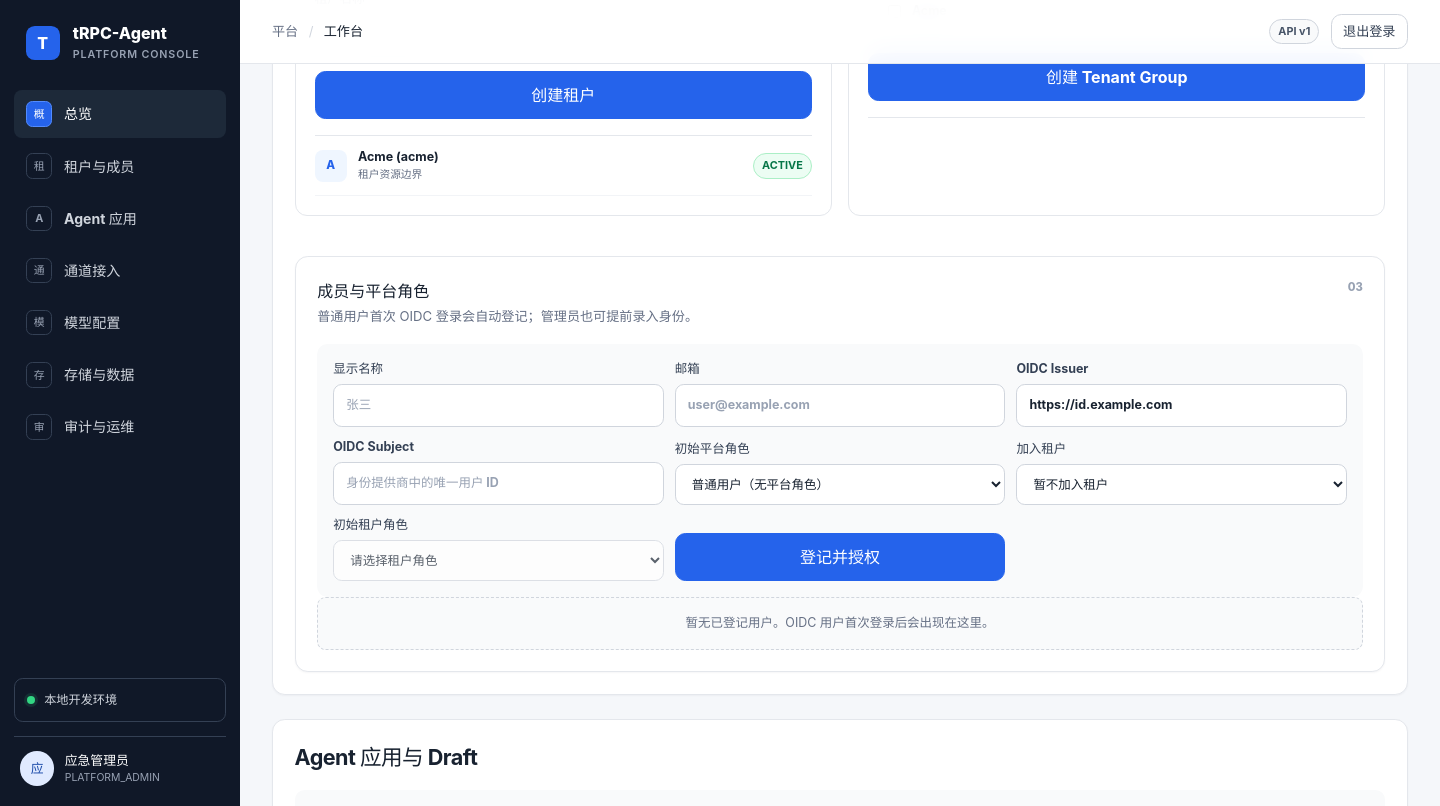
Test: 平台管理员可预登记普通 OIDC 用户
This screenshot has width=1440, height=806.
(page scrolled)
expect the button named "登记用户" is shown: met, box [675, 533, 1005, 581]
Type "Alice" into the field named "用户显示名称" at point(498, 406), box [333, 384, 664, 427]
Type "alice@example.com" into the field named "用户邮箱" at point(840, 406), box [675, 384, 1005, 427]
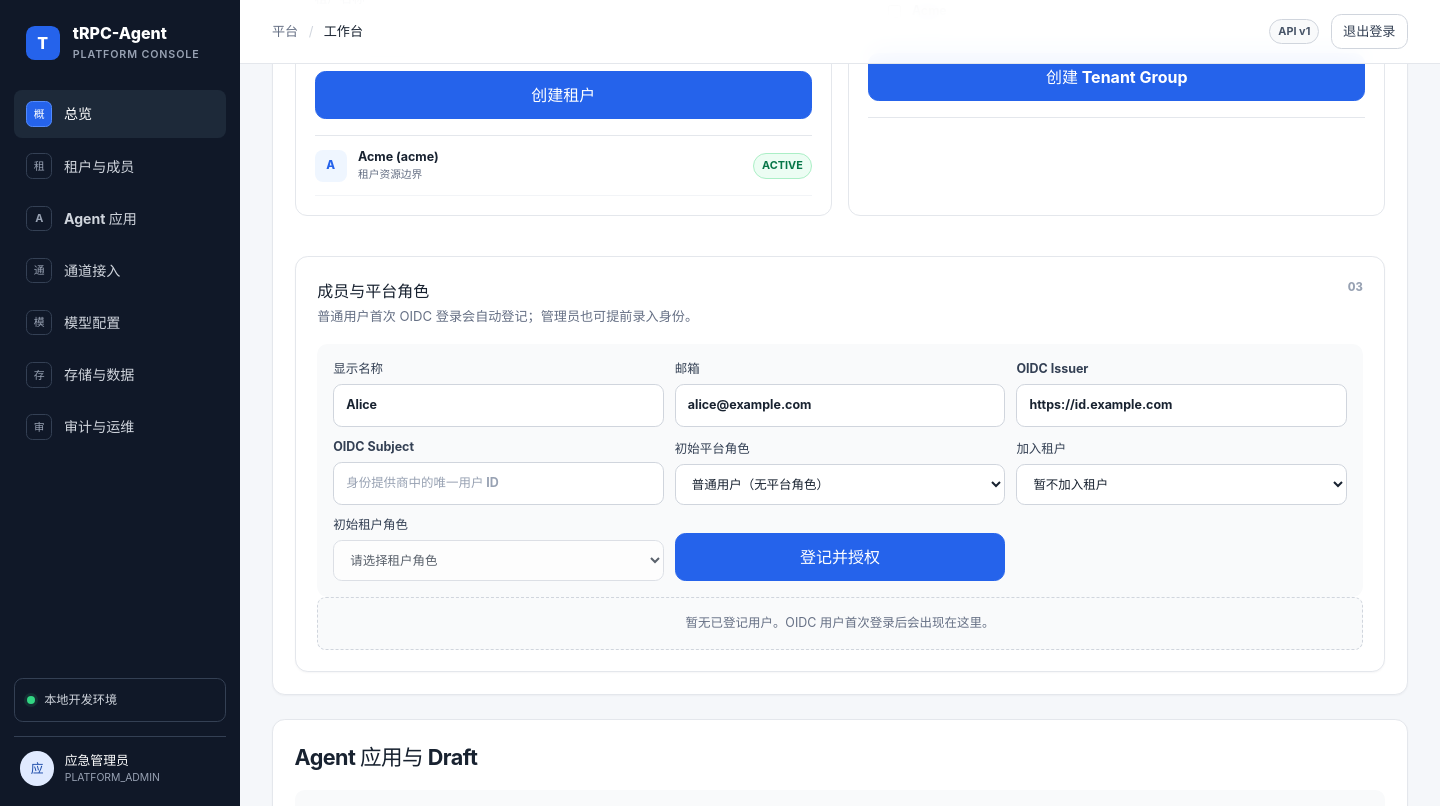
Replace the text in the field labelled "OIDC Issuer" with "https://identity.example.com" at point(1182, 406), box [1016, 384, 1347, 427]
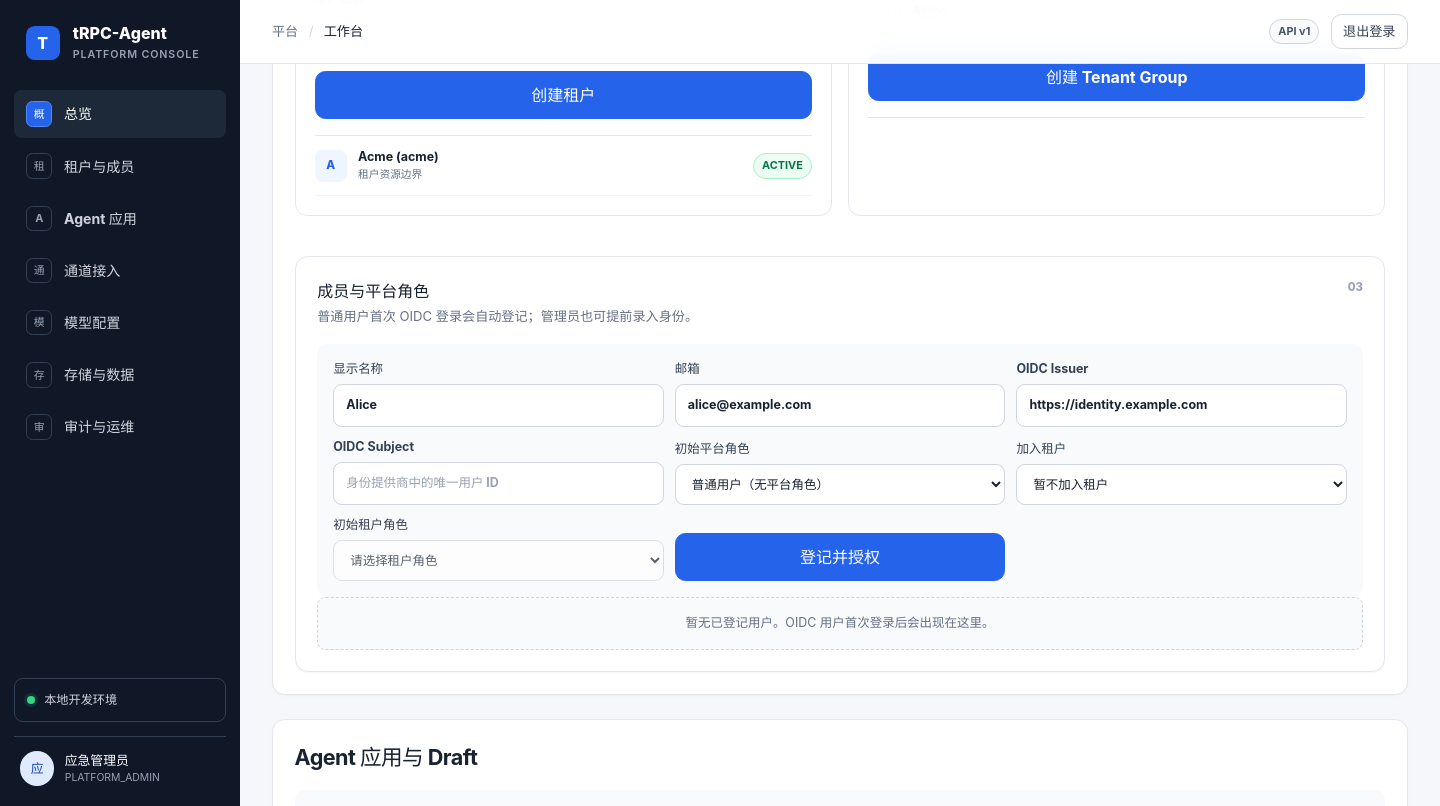
Type "alice-id" into the field labelled "OIDC Subject" at point(498, 484), box [333, 462, 664, 505]
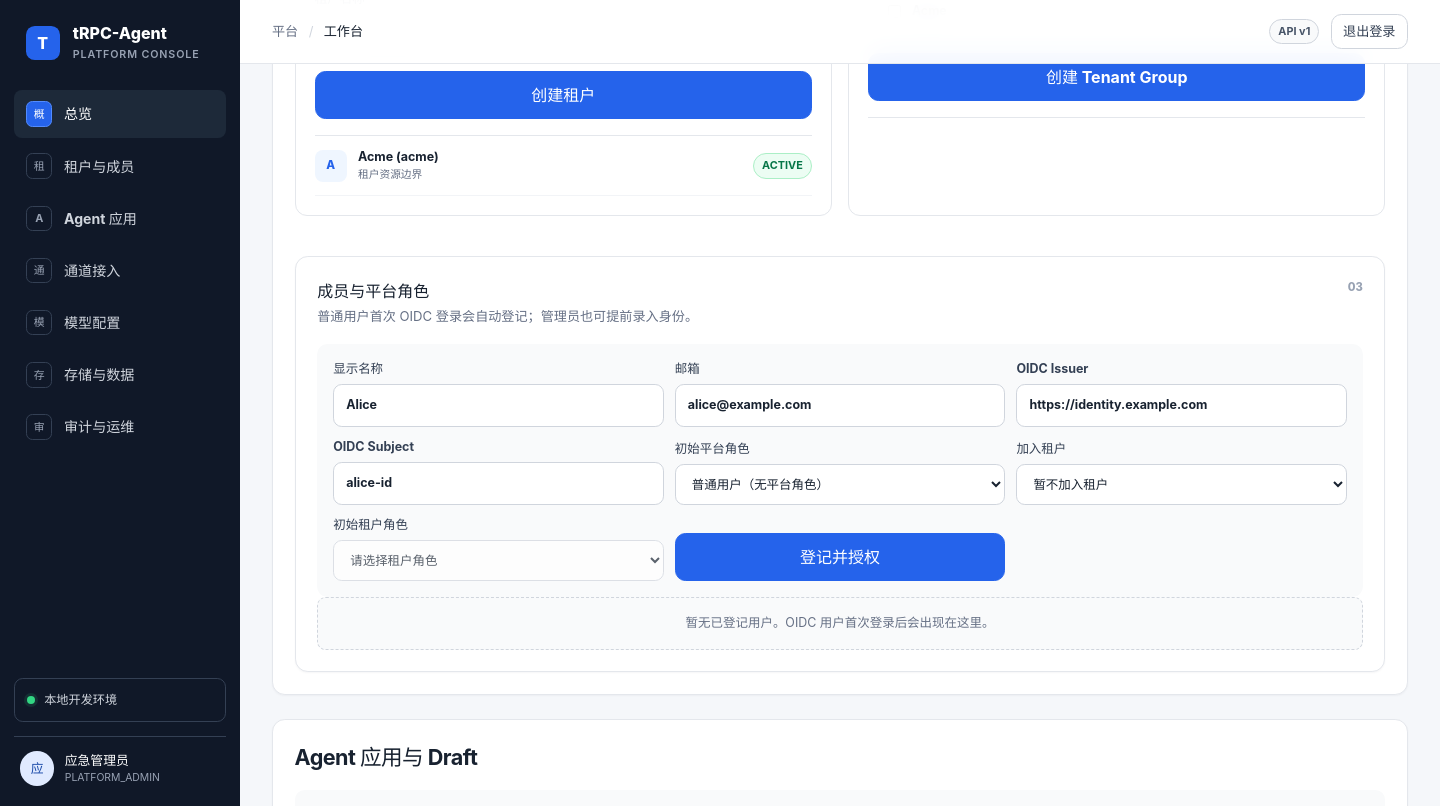
Select "Acme" in the dropdown labelled "加入租户" at point(1182, 484), box [1016, 464, 1347, 505]
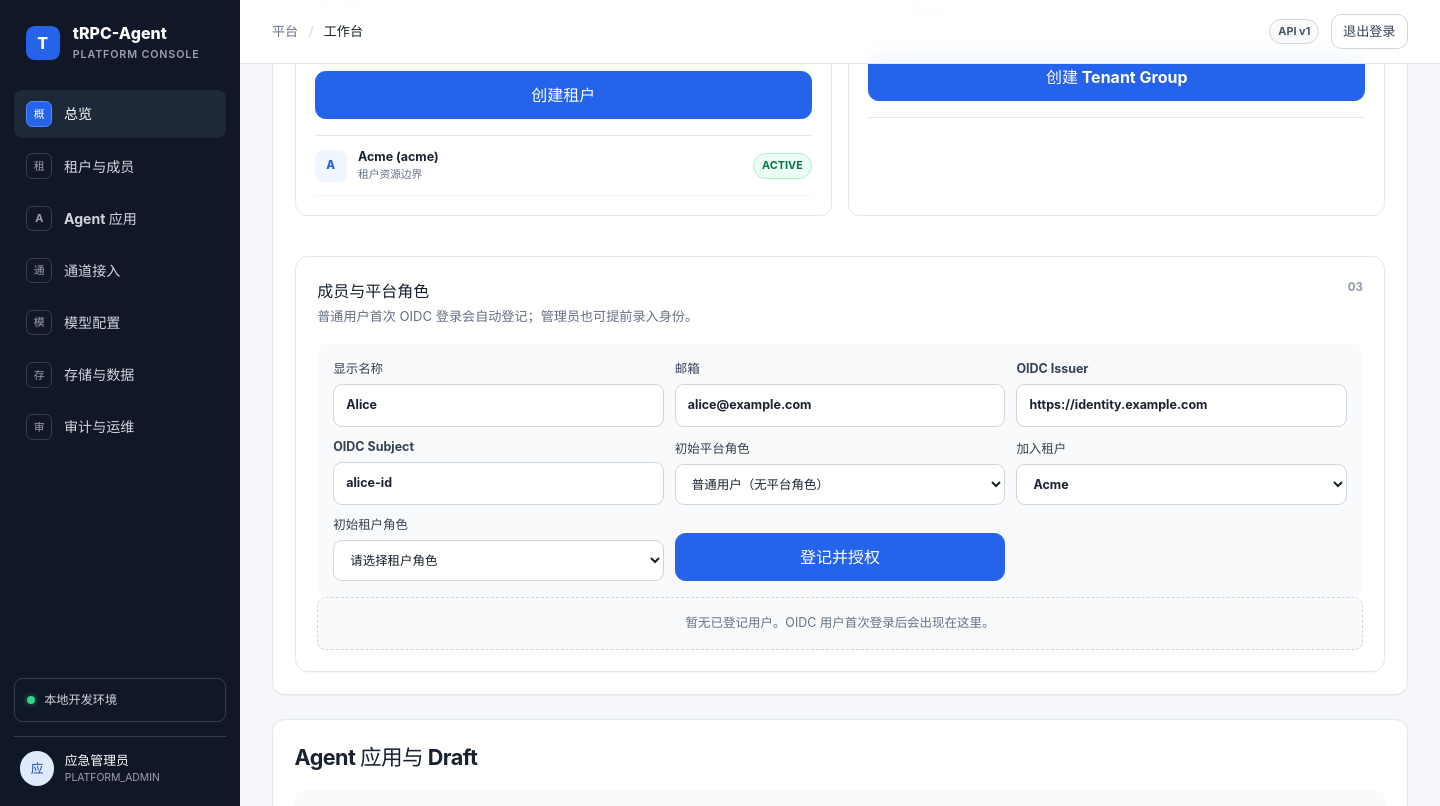
Select "Agent 开发者" in the dropdown labelled "初始租户角色" at point(498, 561), box [333, 540, 664, 581]
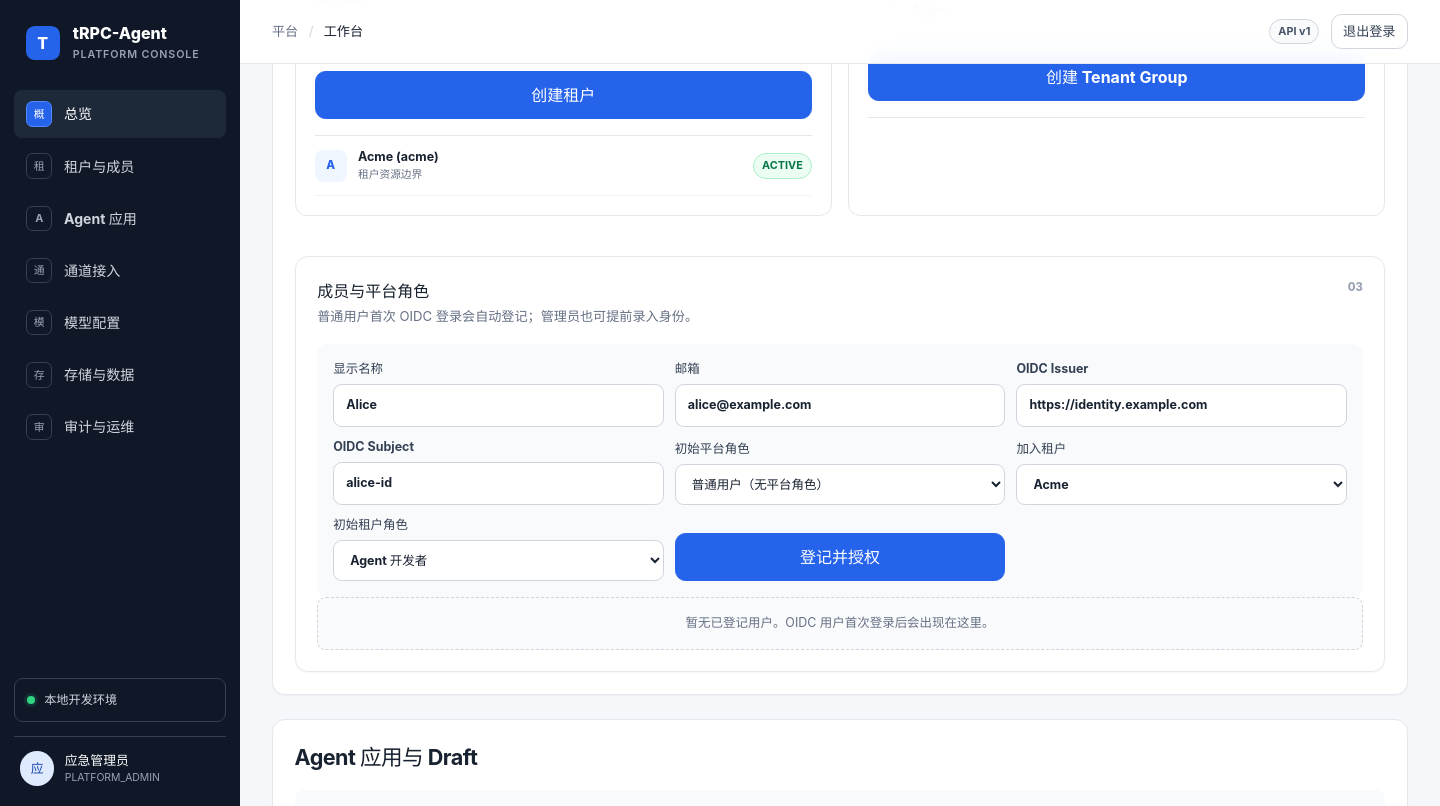
Click the button named "登记用户" at point(840, 557), box [675, 533, 1005, 581]
(page scrolled)
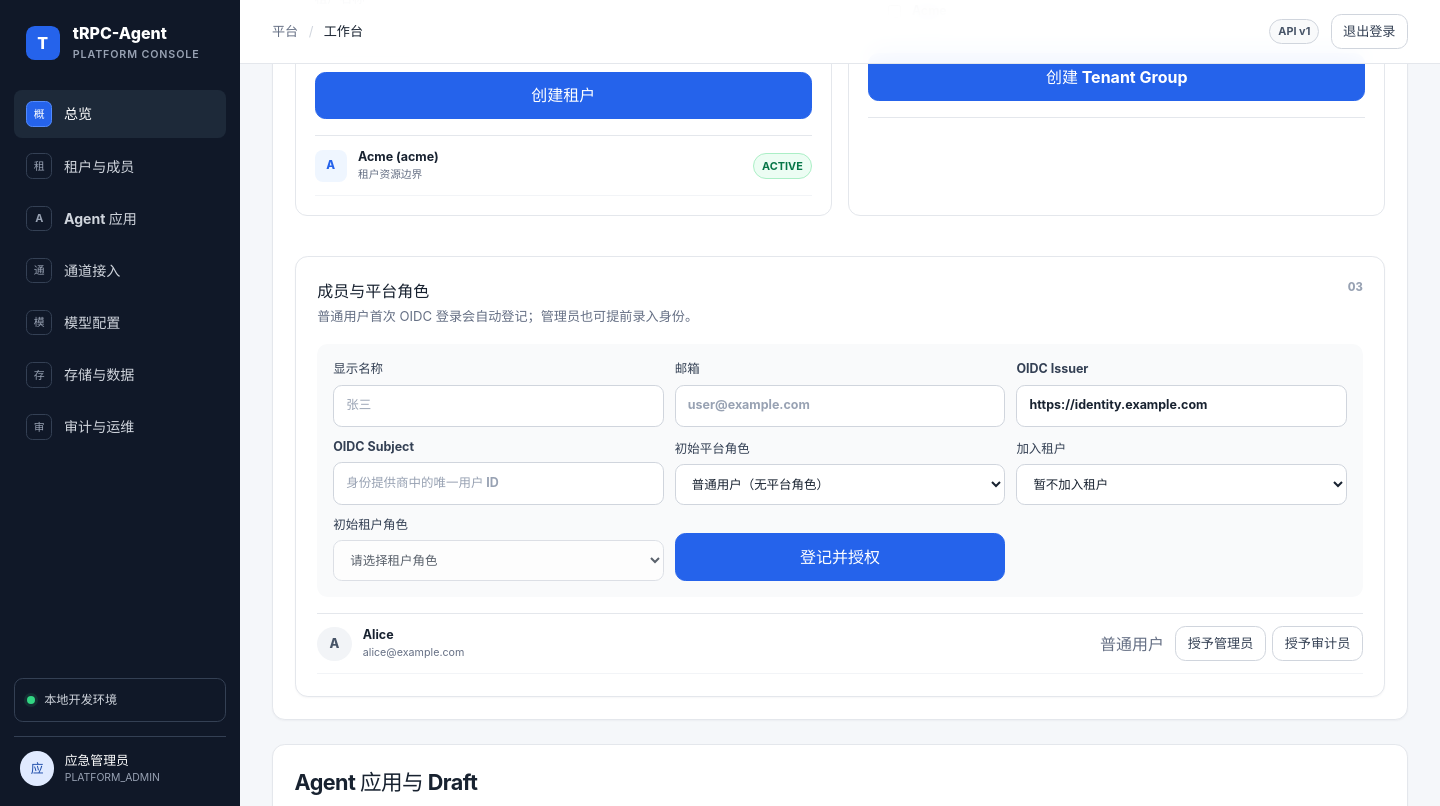
expect the text "alice@example.com" is shown: met, box [363, 646, 464, 659]
